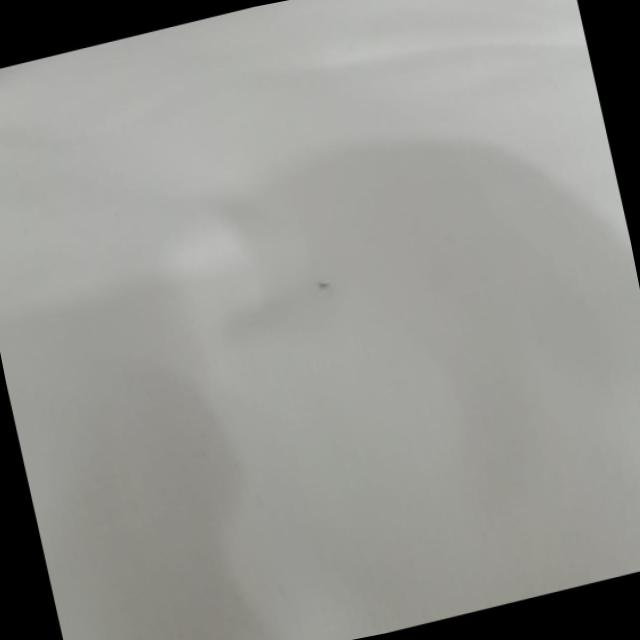stain: (307, 260, 345, 315)
